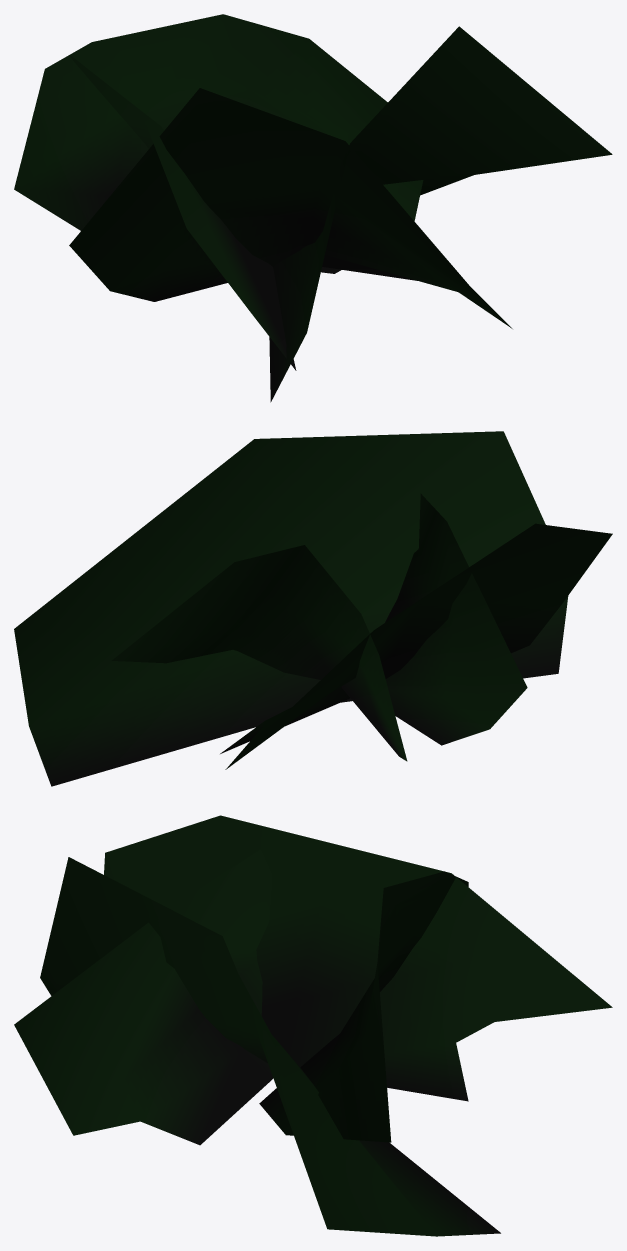
The model's file is Grass_Instanced_A.fbx.
The picture shows the model from 3 angles, top to bottom: view 1: azimuth 30°, elevation 25°; view 2: azimuth 150°, elevation 25°; view 3: azimuth 270°, elevation 25°; orthographic projection. The views are drawn at different scales.
Visible parts, largest first — view 1: GIA_LOD0; view 2: GIA_LOD0; view 3: GIA_LOD0.
Part boxes in pixels (box(x1,y1,x2,y2)): GIA_LOD0: box(14, 14, 612, 402); GIA_LOD0: box(14, 431, 612, 786); GIA_LOD0: box(14, 815, 612, 1236).
Size of what is drawn, in the model's own units: 1.27 by 0.6385 by 1.31.
